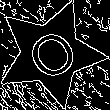O_SE: (18, 21, 84, 87)
